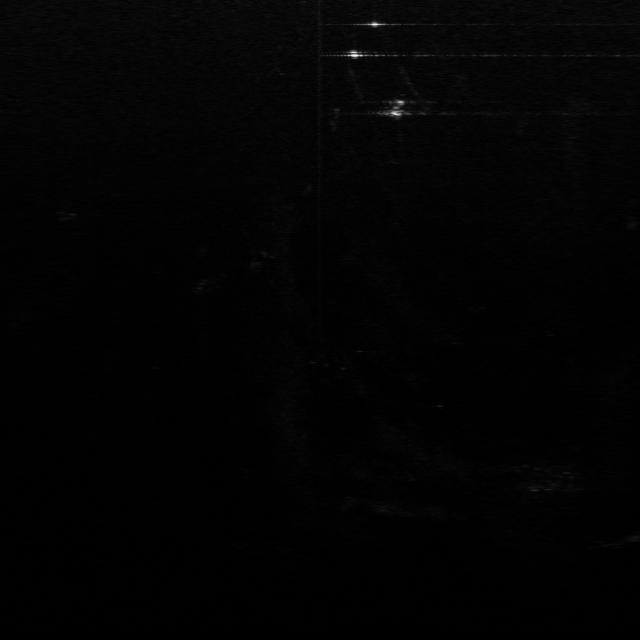rov: (382, 97, 417, 117)
